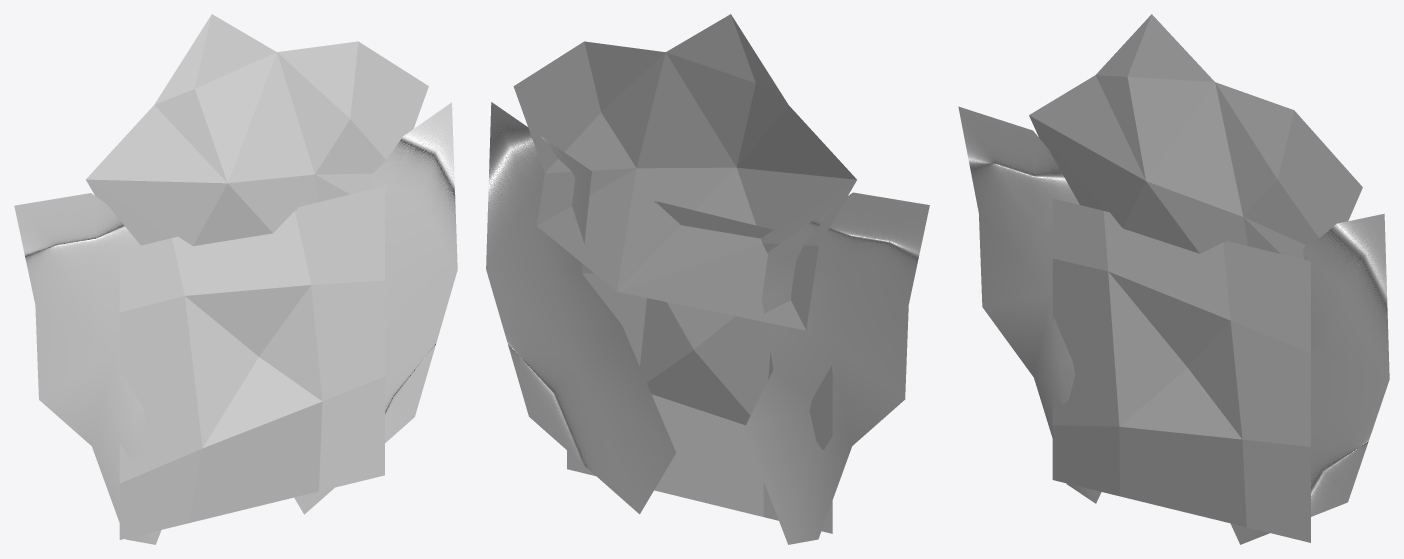
The model's file is SM_Env_Ivy_08.glb.
3 views of the same model, side by side, from view 1: azimuth 30°, elevation 25°; view 2: azimuth 150°, elevation 25°; view 3: azimuth 330°, elevation 25° (orthographic). The views are drawn at different scales.
Parts seen in each view (by area): view 1: SM_Env_Ivy_08; view 2: SM_Env_Ivy_08; view 3: SM_Env_Ivy_08.
Part boxes in pixels (x1,y1,x2,y2): SM_Env_Ivy_08: [14, 14, 457, 544]; SM_Env_Ivy_08: [486, 14, 929, 544]; SM_Env_Ivy_08: [958, 14, 1389, 544].
Bounding box in the file's own units: 2.62 × 2.95 × 0.1224.
Materials: 1 (1 with a texture image).
